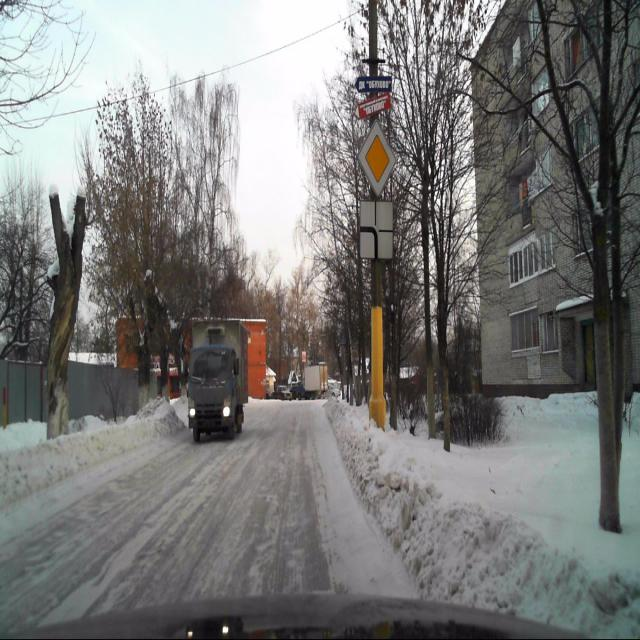road sign: (358, 122, 396, 196), (360, 200, 393, 260)
